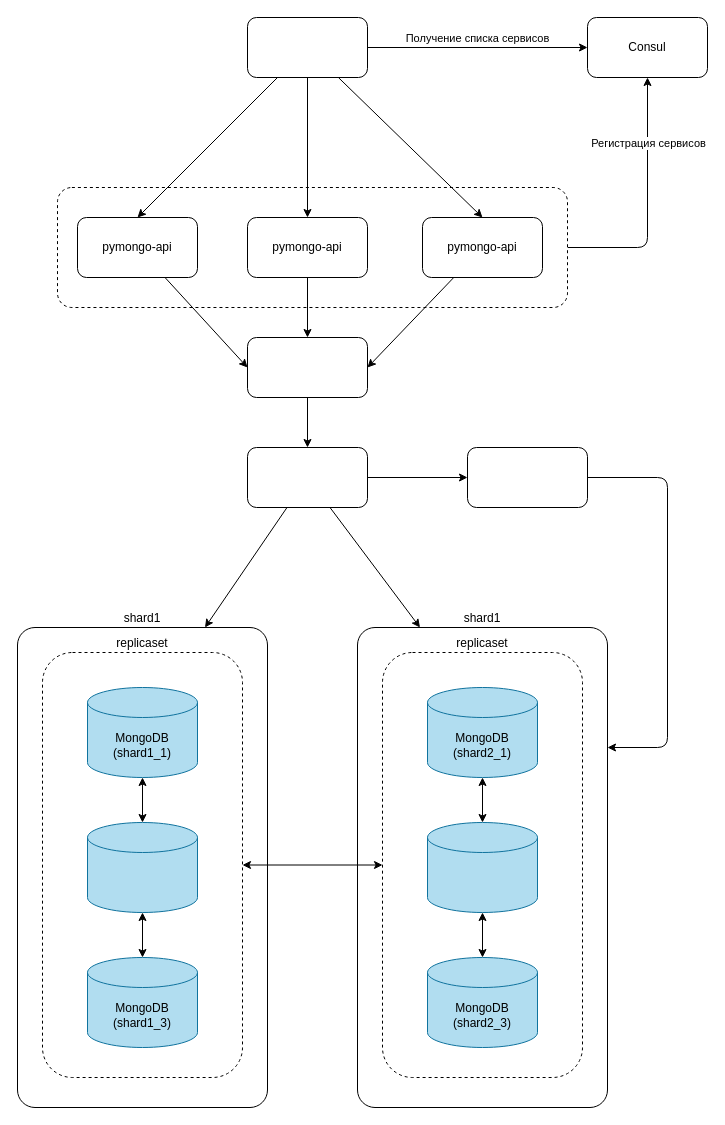
This 725x1125 diagram has some shape labels left out. Here are the shapes that lost their labels. From the top down, the centre of each, then its label:
At (307,47): "API Gateway".
At (307,367): "redis".
At (307,477): "router".
At (527,477): "configSrv".
At (142,867): "MongoDB (shard1_2)".
At (482,867): "MongoDB (shard2_2)".
